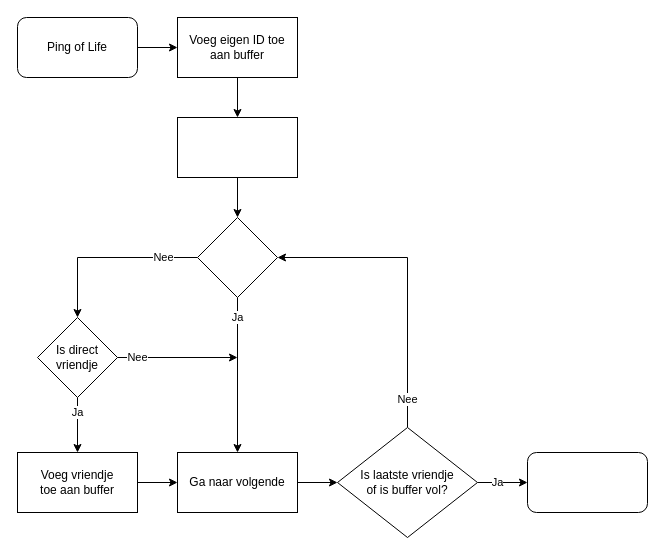
This 665x555 diagram has some shape labels left out. Here are the shapes that lost their labels. From the top down, the centre of each, then its label:
At (x=237, y=147): "Start bij begin van de vriendjes array".
At (x=237, y=257): "Is leeg? (ID == 0)".
At (x=587, y=482): "Stuur buffer als Ping of Life".
